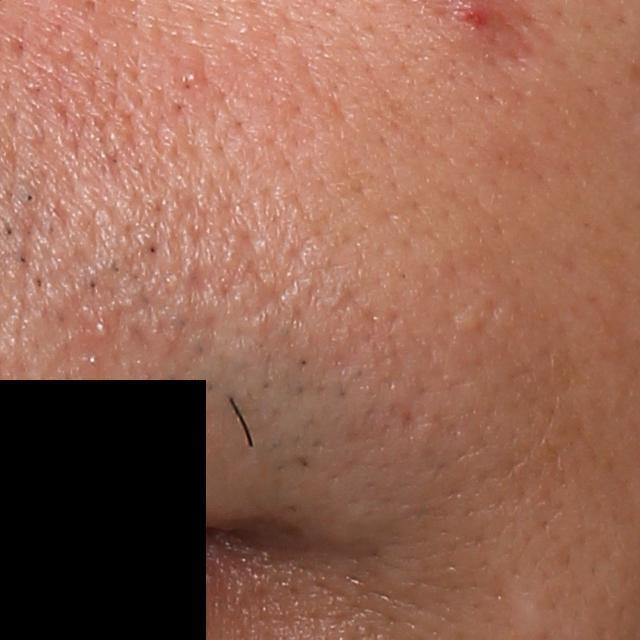hypertrophic_scar: (499, 576, 560, 640)
